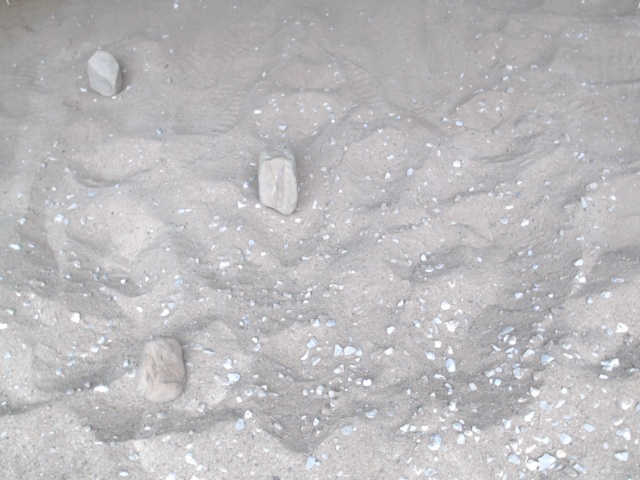rock: (132, 333, 190, 405), (253, 139, 302, 220), (84, 47, 127, 101)
